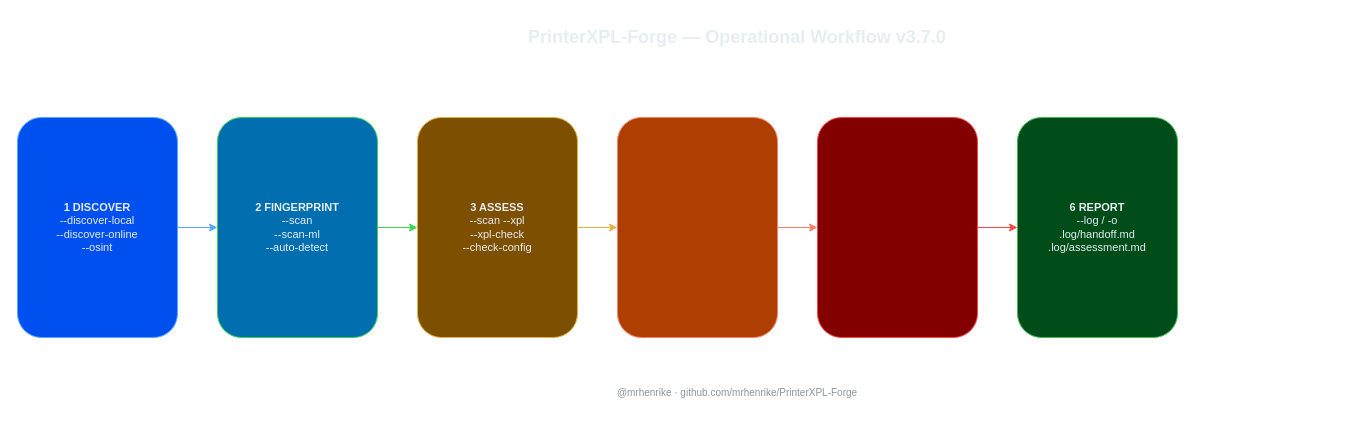
The diagram is 1355 pixels wide and 424 high, and some of its shapes have lost their labels. Here are the shapes that lost their labels. From the top down, the centre of each, then its label:
[697,227]: 4 EXPLOIT --bruteforce --xpl-run --attack-matrix
[897,227]: 5 PIVOT --pivot --pivot-scan --network-map
